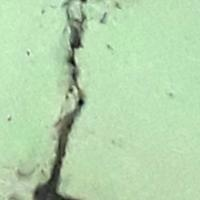crack: (33, 0, 108, 199)
